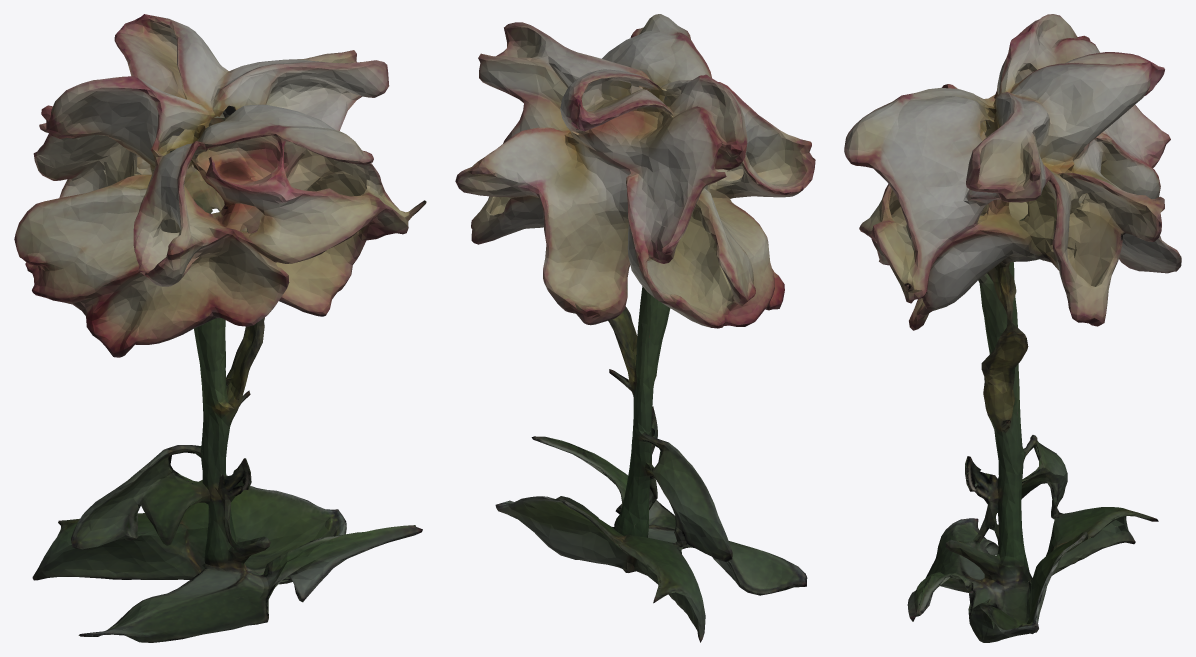
The picture shows the model from 3 angles, left to right: view 1: azimuth 30°, elevation 25°; view 2: azimuth 150°, elevation 25°; view 3: azimuth 270°, elevation 25°; orthographic projection. The views are drawn at different scales.
Parts seen in each view (by area): view 1: world; view 2: world; view 3: world.
Part boxes in pixels (x1,y1,x2,y2): world: (14, 14, 426, 642); world: (455, 14, 815, 642); world: (844, 14, 1181, 642).
Bounding box in the file's own units: 0.5787 × 0.9464 × 0.5302.
1 material, 1 textured.
